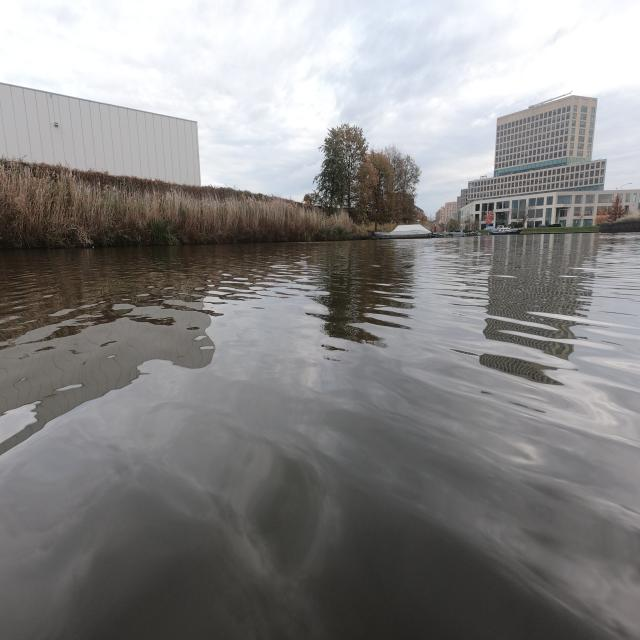boat: (374, 224, 430, 238), (489, 225, 521, 235)
reed: (0, 154, 366, 242)
sky: (0, 2, 638, 214)
tree: (313, 124, 421, 226)
water: (0, 234, 640, 640)
